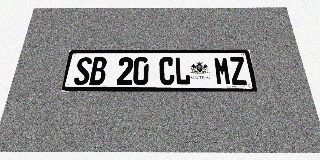0: (133, 57, 149, 85)
2: (117, 57, 134, 85)
B: (89, 57, 107, 85)
C: (159, 57, 175, 85)
L: (174, 57, 191, 85)
M: (213, 57, 232, 85)
S: (73, 57, 92, 85)
Z: (229, 57, 248, 85)
